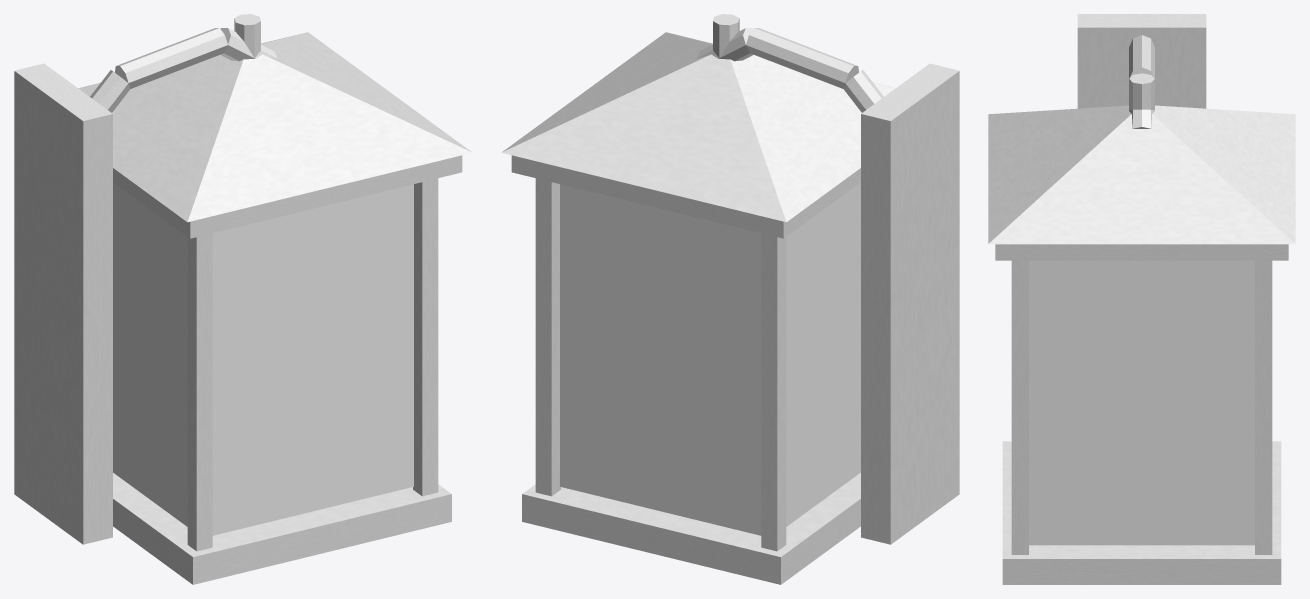
The model's file is porchlanternsconce.obj.
3 renders of one model, left to right at view 1: azimuth 30°, elevation 25°; view 2: azimuth 150°, elevation 25°; view 3: azimuth 270°, elevation 25°, orthographic. The views are drawn at different scales.
Parts seen in each view (by area): view 1: Metal, Glass, Base; view 2: Metal, Glass, Base; view 3: Metal, Glass, Base.
Boxes of the visible parts, x1,y1,x2,y2 form: Metal: (78, 14, 472, 584); Glass: (113, 182, 413, 535); Base: (14, 63, 112, 544); Metal: (501, 14, 895, 584); Glass: (560, 182, 860, 535); Base: (861, 63, 959, 544); Metal: (988, 35, 1295, 584); Glass: (1029, 260, 1254, 545); Base: (1077, 14, 1206, 108).
Bounding box in the file's own units: 0.515 × 0.75 × 0.43.
